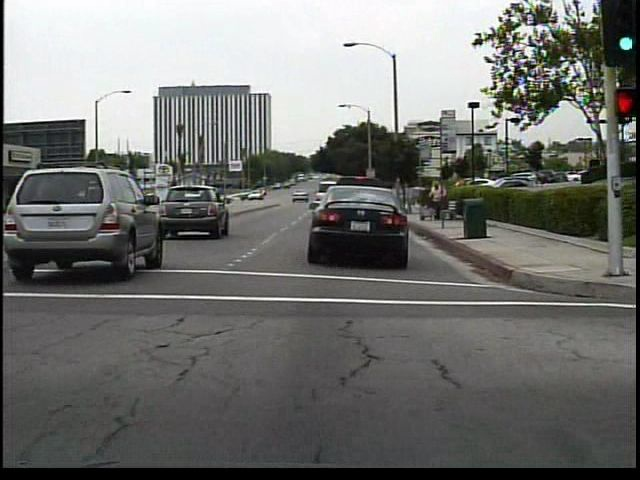person: (424, 179, 448, 224)
